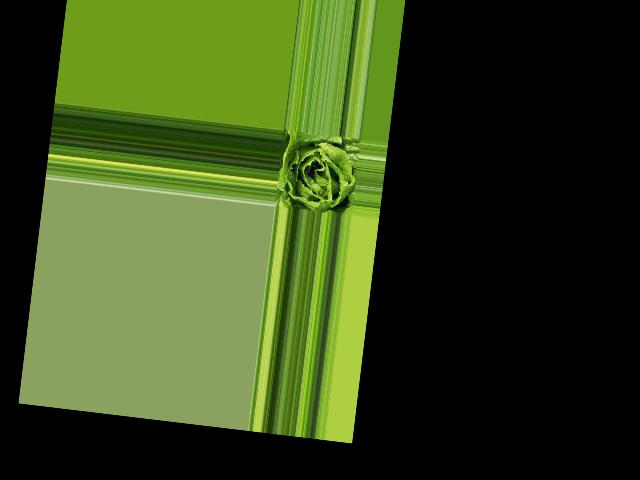lettuce: (275, 129, 360, 215)
